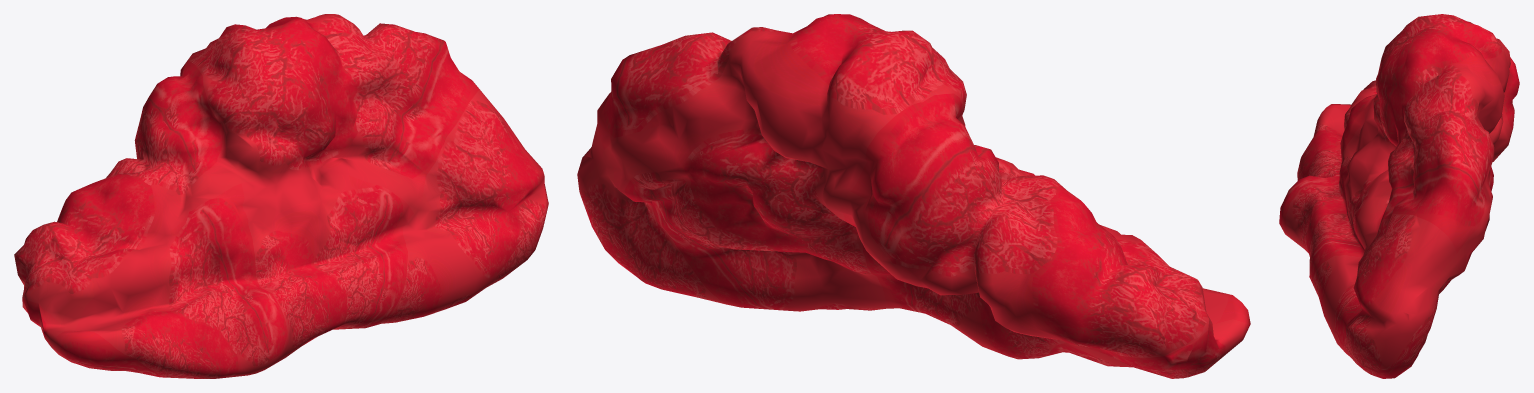
The model's file is SM_e_202_DemonMeatParts_01b.fbx.
The picture shows the model from 3 angles, left to right: view 1: azimuth 30°, elevation 25°; view 2: azimuth 150°, elevation 25°; view 3: azimuth 270°, elevation 25°; orthographic projection. The views are drawn at different scales.
Parts seen in each view (by area): view 1: SM_e_202_DemonMeatParts_01b.001; view 2: SM_e_202_DemonMeatParts_01b.001; view 3: SM_e_202_DemonMeatParts_01b.001.
Part boxes in pixels (bbox=[...]): SM_e_202_DemonMeatParts_01b.001: bbox=[14, 14, 548, 378]; SM_e_202_DemonMeatParts_01b.001: bbox=[577, 14, 1250, 378]; SM_e_202_DemonMeatParts_01b.001: bbox=[1279, 14, 1519, 378].
Bounding box in the file's own units: 10.88 × 5.79 × 4.65.
1 material, 1 textured.
